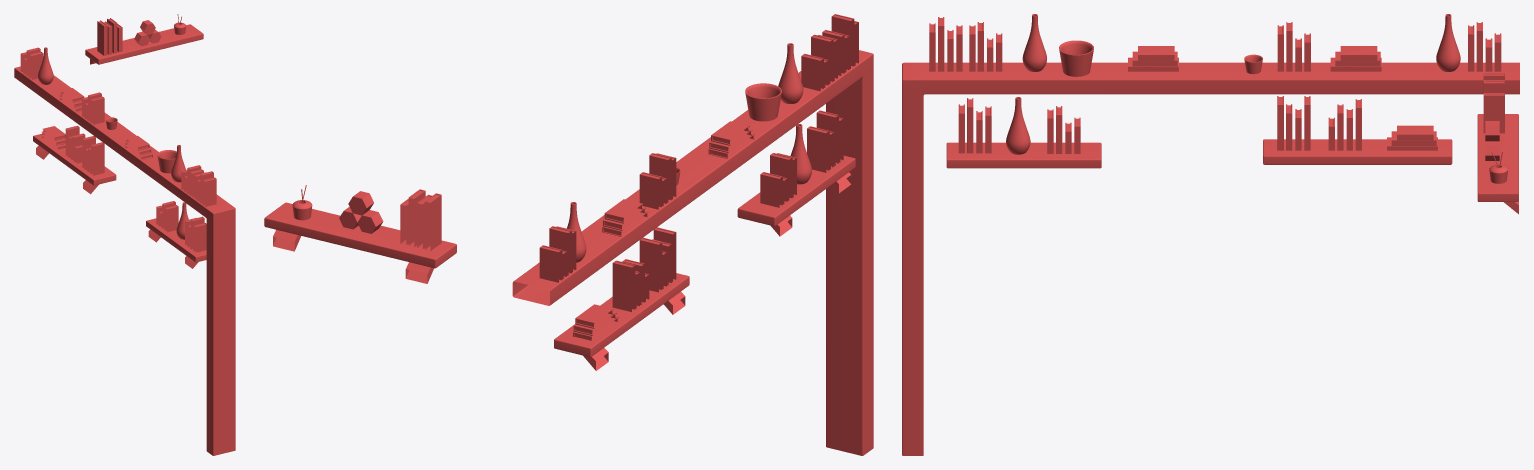
3 renders of one model, left to right at view 1: azimuth 30°, elevation 25°; view 2: azimuth 150°, elevation 25°; view 3: azimuth 270°, elevation 25°, orthographic. The views are drawn at different scales.
Visible parts, largest first — view 1: Uv_001; view 2: Uv_001; view 3: Uv_001.
Part boxes in pixels (bbox=[...]): Uv_001: bbox=[14, 14, 235, 455]; Uv_001: bbox=[264, 14, 873, 455]; Uv_001: bbox=[902, 14, 1519, 455].
Size of the model in its own units: 151 by 223 by 290.
